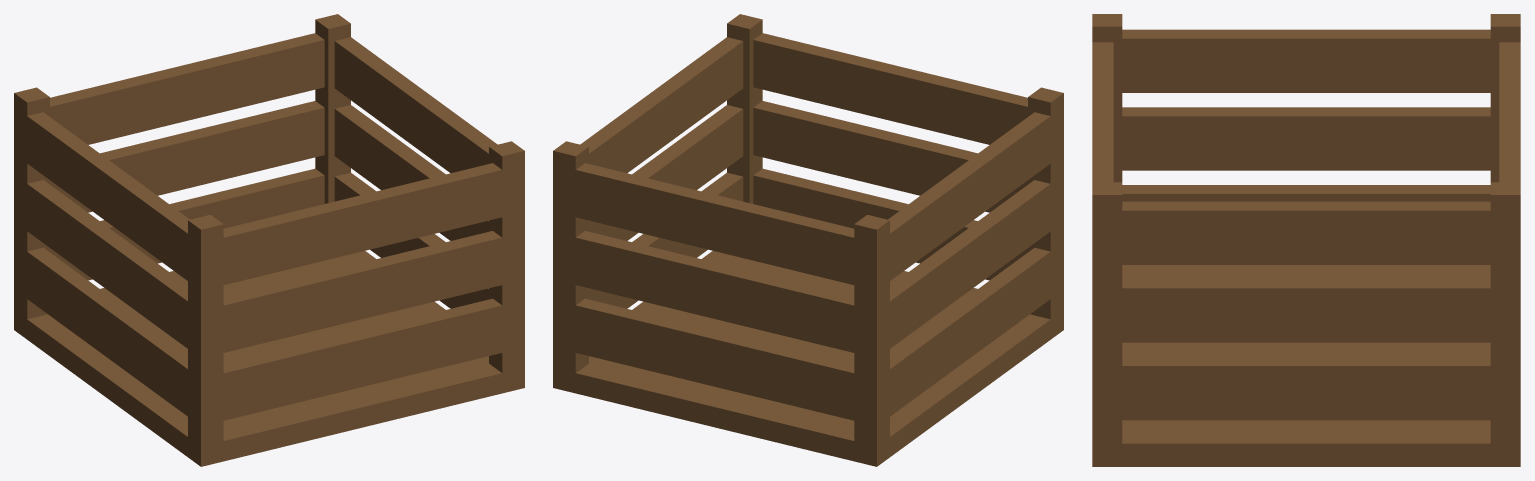
The model's file is crate_whole.glb.
3 renders of one model, left to right at view 1: azimuth 30°, elevation 25°; view 2: azimuth 150°, elevation 25°; view 3: azimuth 270°, elevation 25°, orthographic. The views are drawn at different scales.
Parts seen in each view (by area): view 1: crate_whole_0; view 2: crate_whole_0; view 3: crate_whole_0.
Part boxes in pixels (x1=…): crate_whole_0: x1=14, y1=14, x2=524, y2=466; crate_whole_0: x1=553, y1=14, x2=1063, y2=466; crate_whole_0: x1=1092, y1=14, x2=1520, y2=466.
Size of the model in its own units: 0.5 by 0.35 by 0.5.
